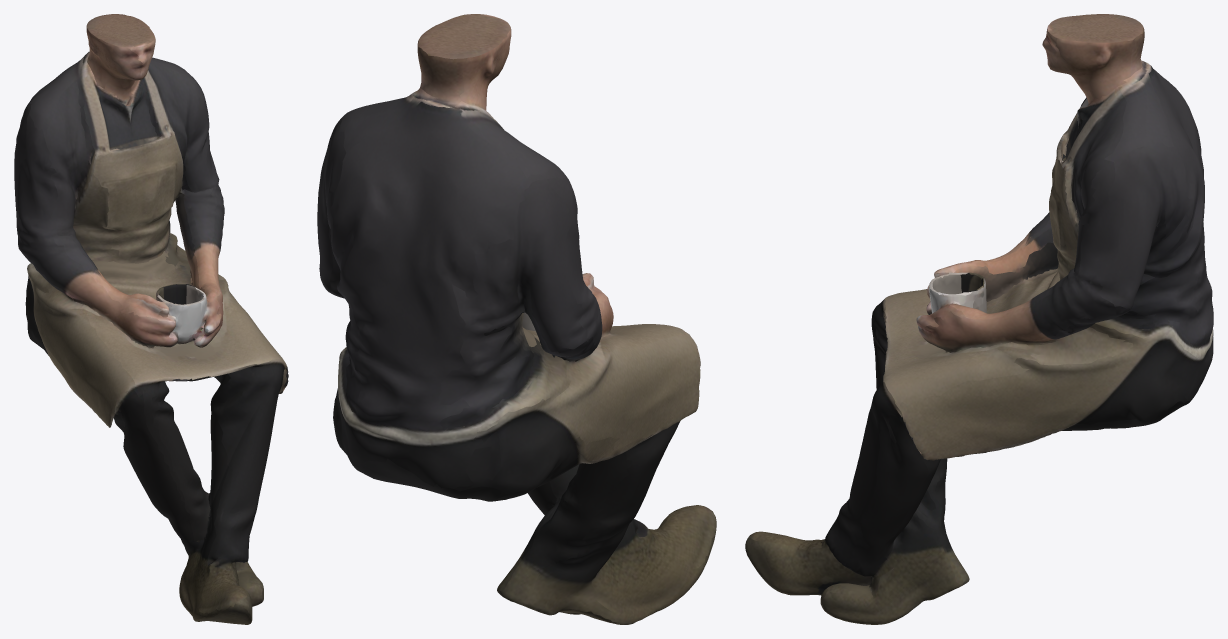
The model's file is person2.glb.
3 renders of one model, left to right at view 1: azimuth 30°, elevation 25°; view 2: azimuth 150°, elevation 25°; view 3: azimuth 270°, elevation 25°, orthographic. The views are drawn at different scales.
Parts seen in each view (by area): view 1: tmpjvztfkfp.ply; view 2: tmpjvztfkfp.ply; view 3: tmpjvztfkfp.ply.
Part boxes in pixels (x1,y1,x2,y2): tmpjvztfkfp.ply: (14,14,288,624); tmpjvztfkfp.ply: (317,14,716,624); tmpjvztfkfp.ply: (745,14,1213,624).
Bounding box in the file's own units: 0.4029 × 0.9879 × 0.7236.
Materials: 1 (1 with a texture image).
